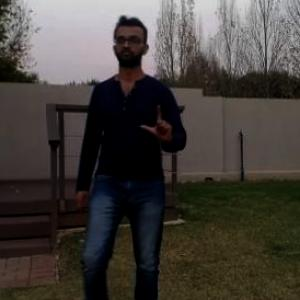land_hand: (133, 97, 178, 148)
